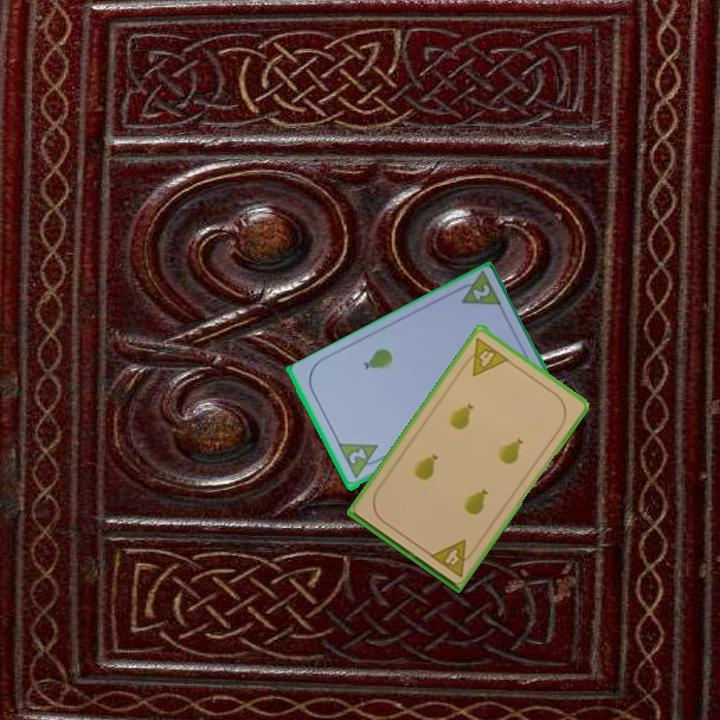2p: (335, 440, 386, 482), (469, 281, 493, 303)
4p: (458, 334, 512, 379), (426, 536, 479, 580)
